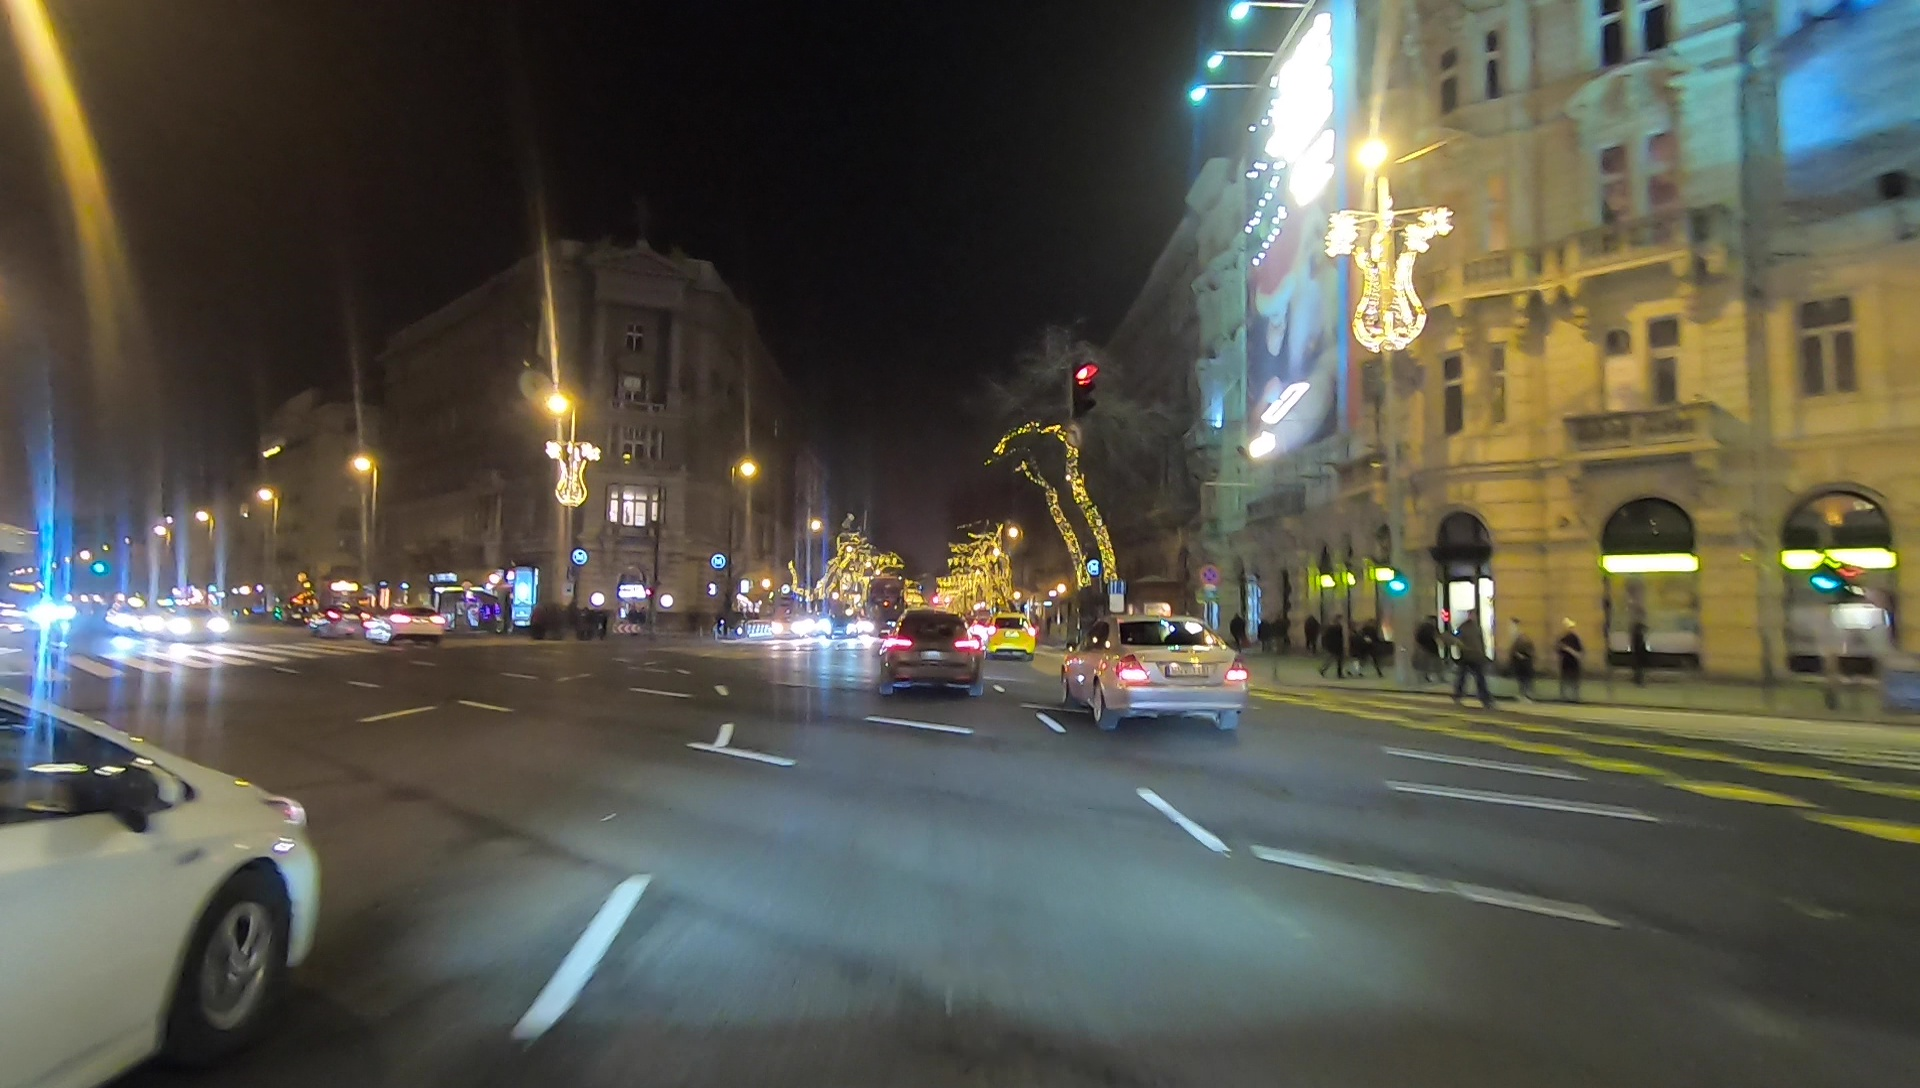person: (1454, 610, 1493, 706), (1552, 619, 1588, 708), (1504, 621, 1538, 700), (1351, 613, 1384, 684), (1415, 615, 1443, 689), (1317, 617, 1345, 682)
